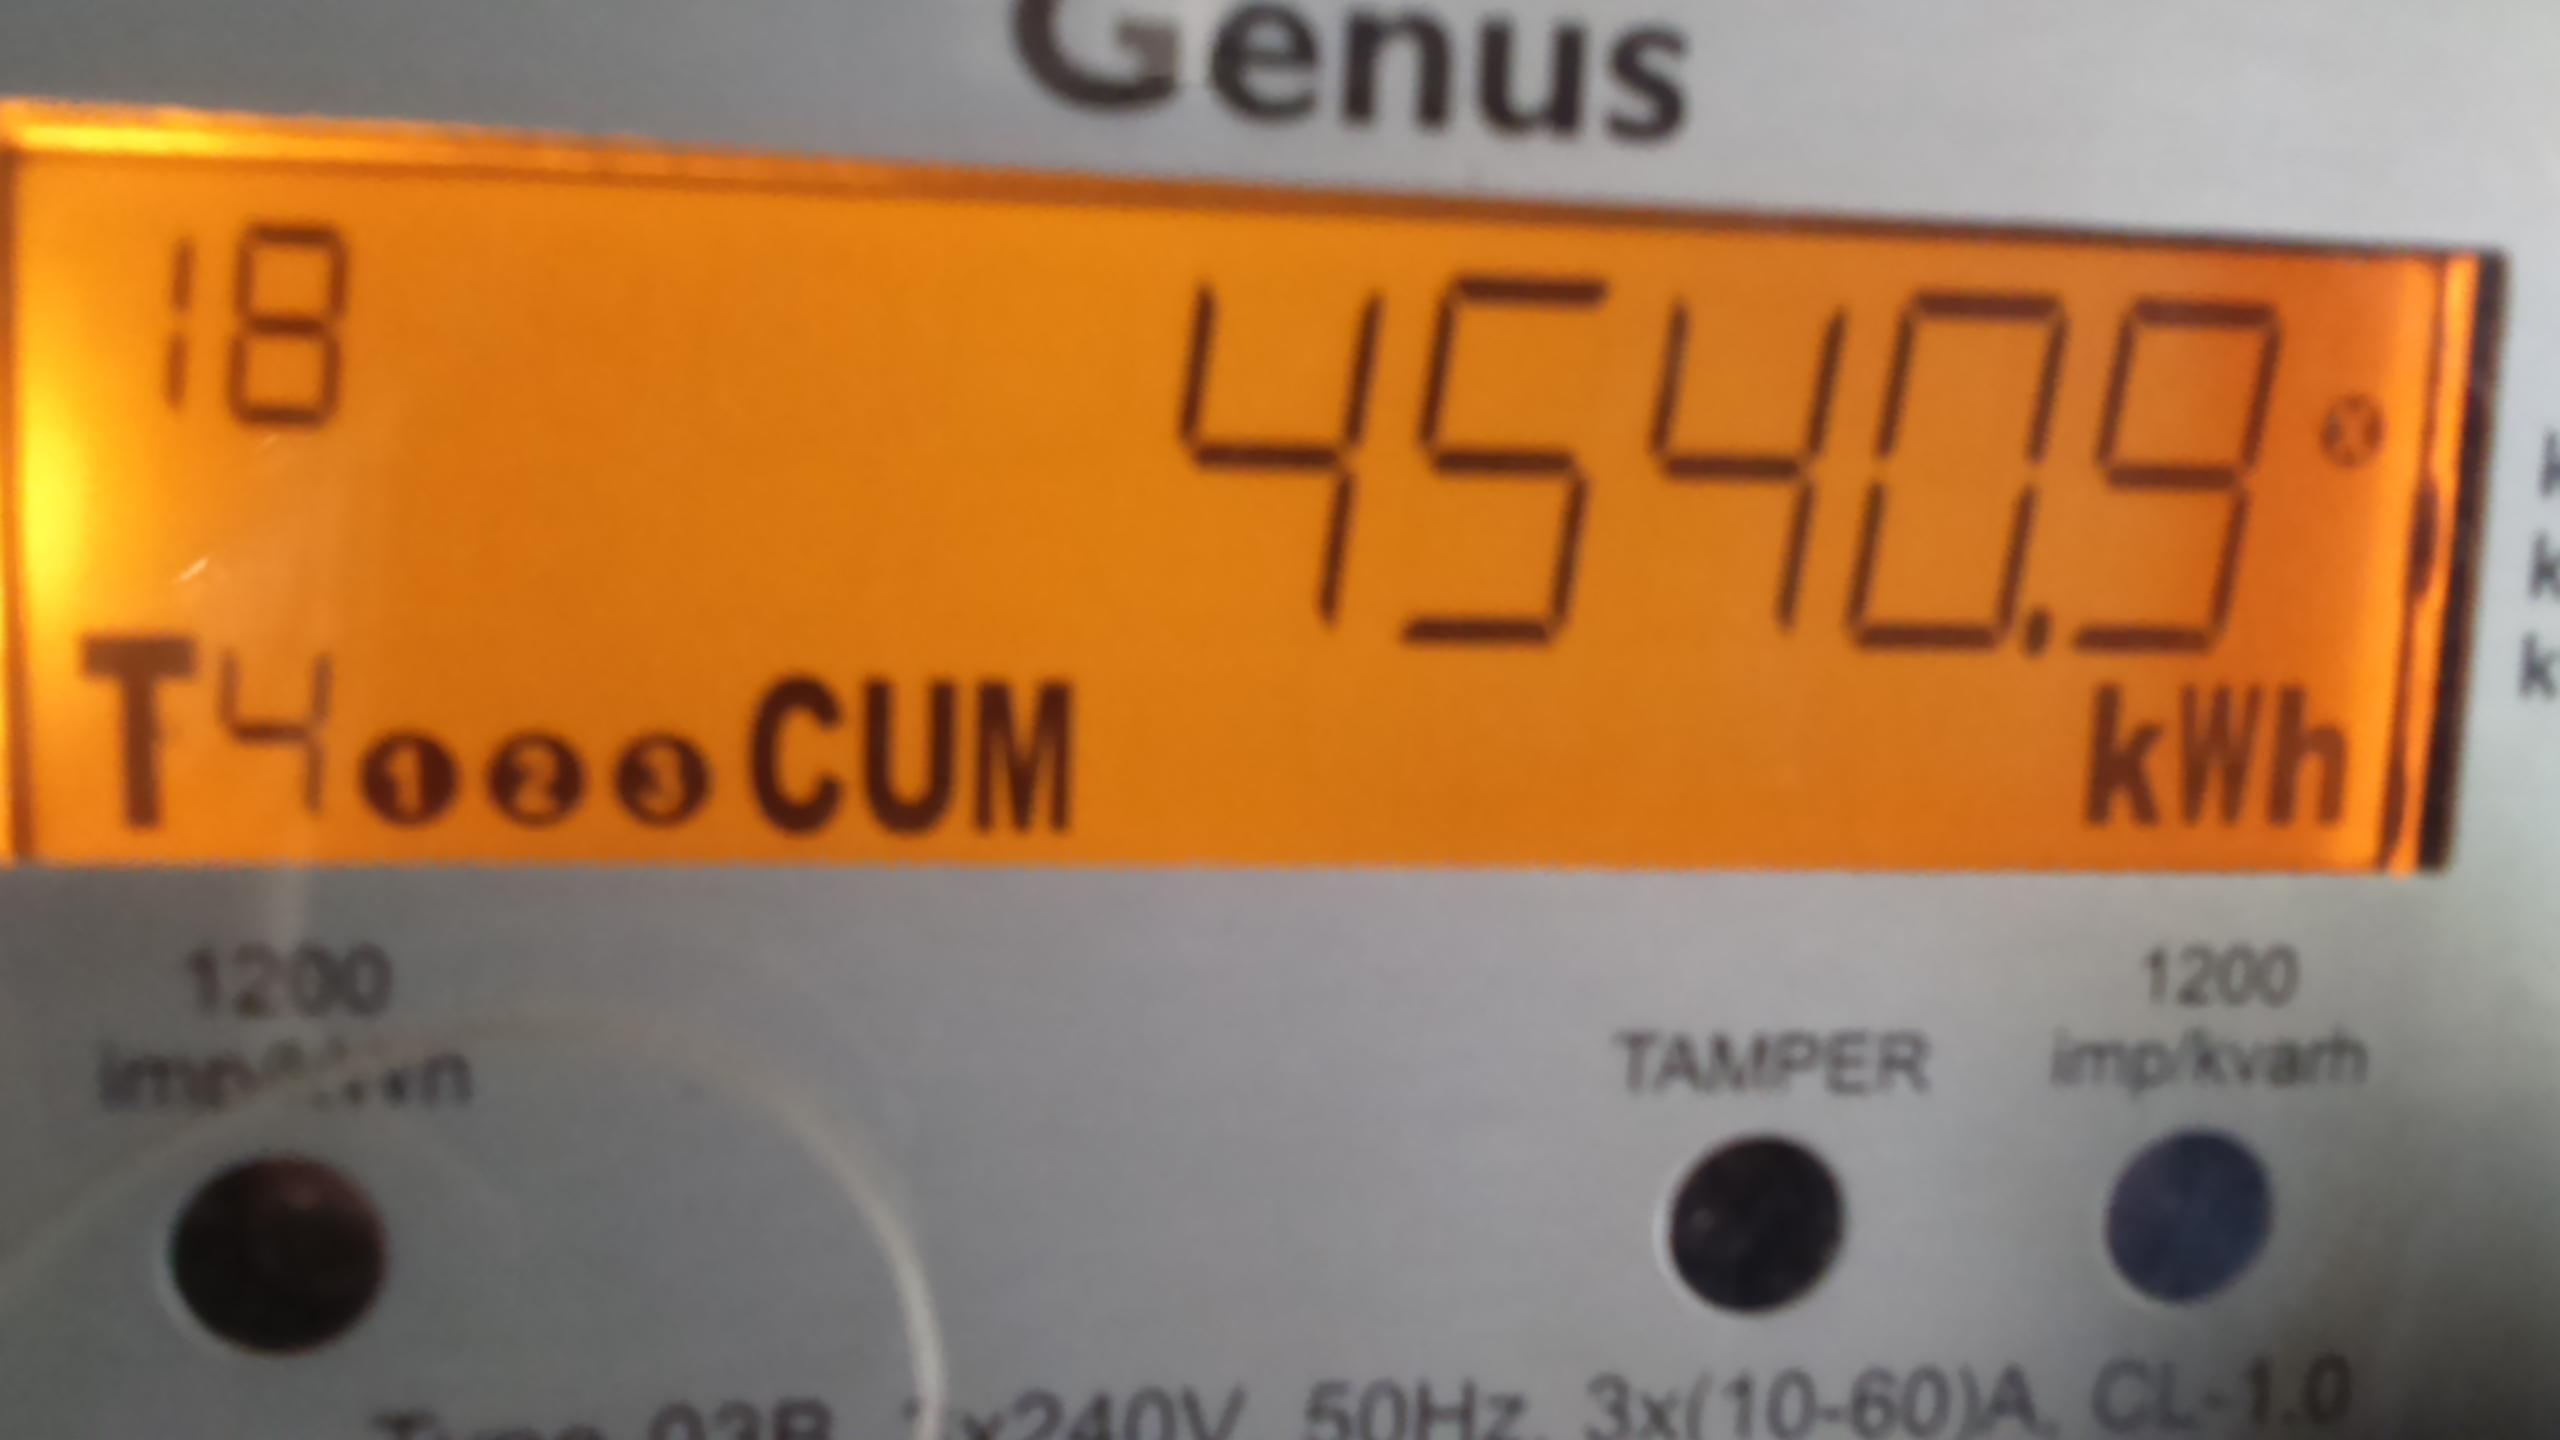.: (2078, 668, 2367, 840)
0: (1987, 578, 2101, 679)
1: (1800, 273, 2098, 659)
5: (1167, 234, 1408, 645), (1642, 269, 1871, 652)
6: (1407, 234, 1607, 693)
:: (2076, 269, 2317, 642)
